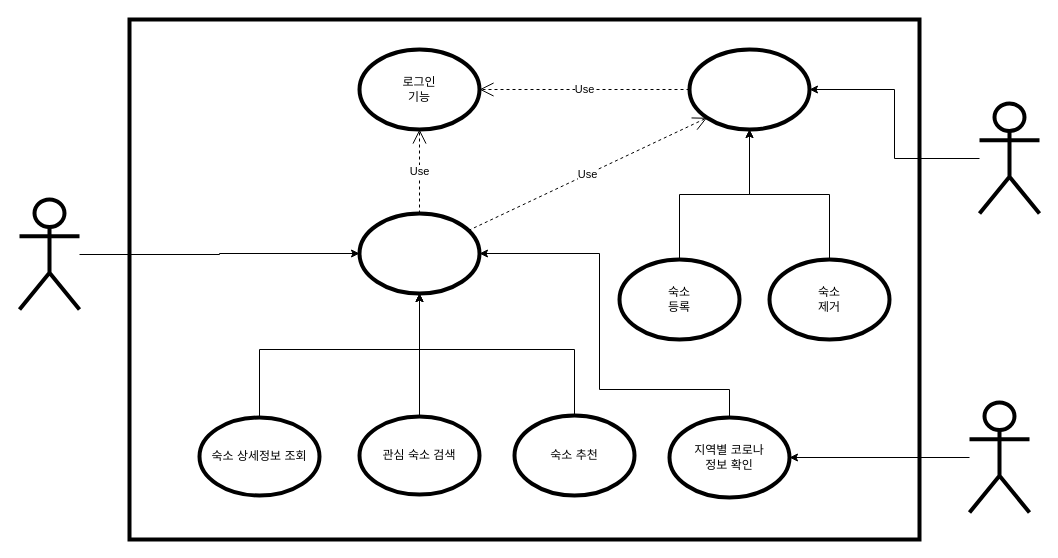
Some shapes in this 1058 by 558 pixel diagram are drawn without their labels. Here are the shapes that lost their labels. From the top down, the centre of each, then its label:
(x=749, y=89): 숙소 목록 생성
(x=419, y=253): 숙소 확인
